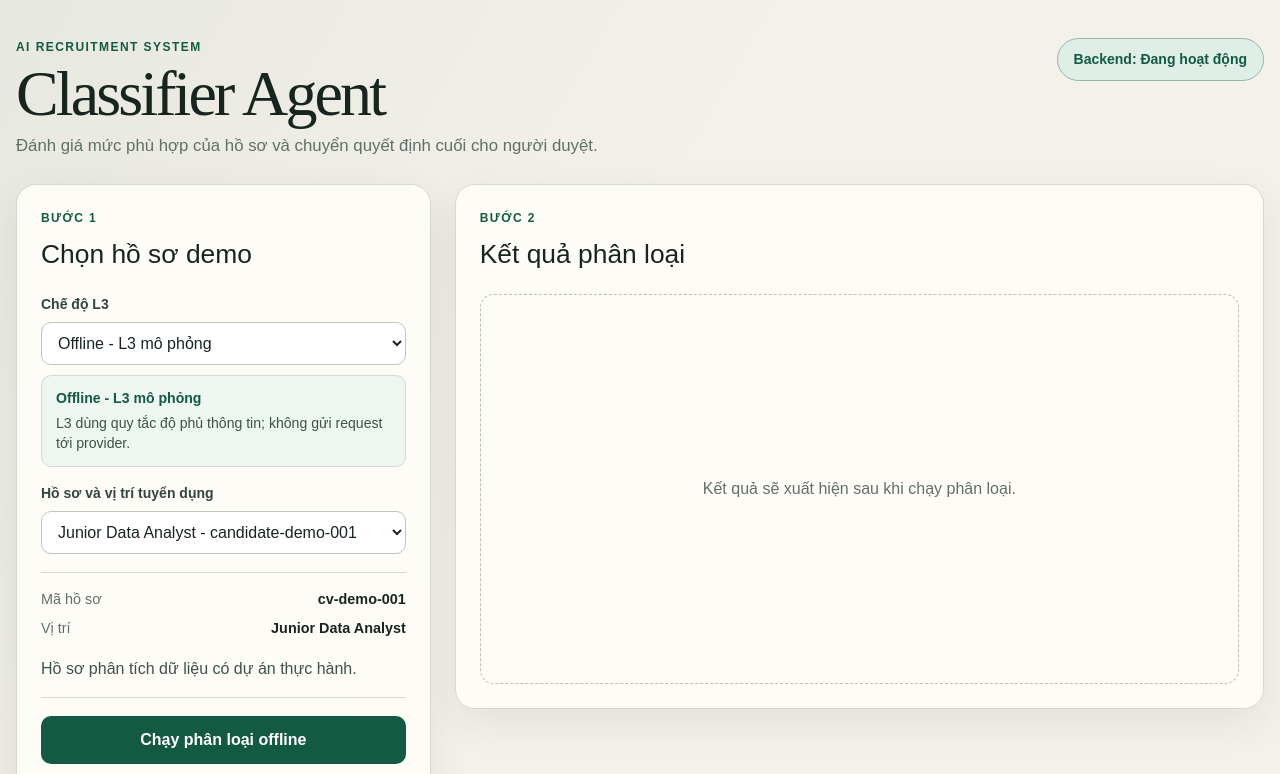
Scenario: ClassifierDashboard › requires cost confirmation and routes a real LLM run explicitly
Expected: the text "Backend: Đang hoạt động" is shown, [1056,38,1264,81]
Select "LLM thật - có thể phát sinh phí" in the dropdown labelled "Chế độ L3". click: point(223, 344)
box: [41,322,406,365]
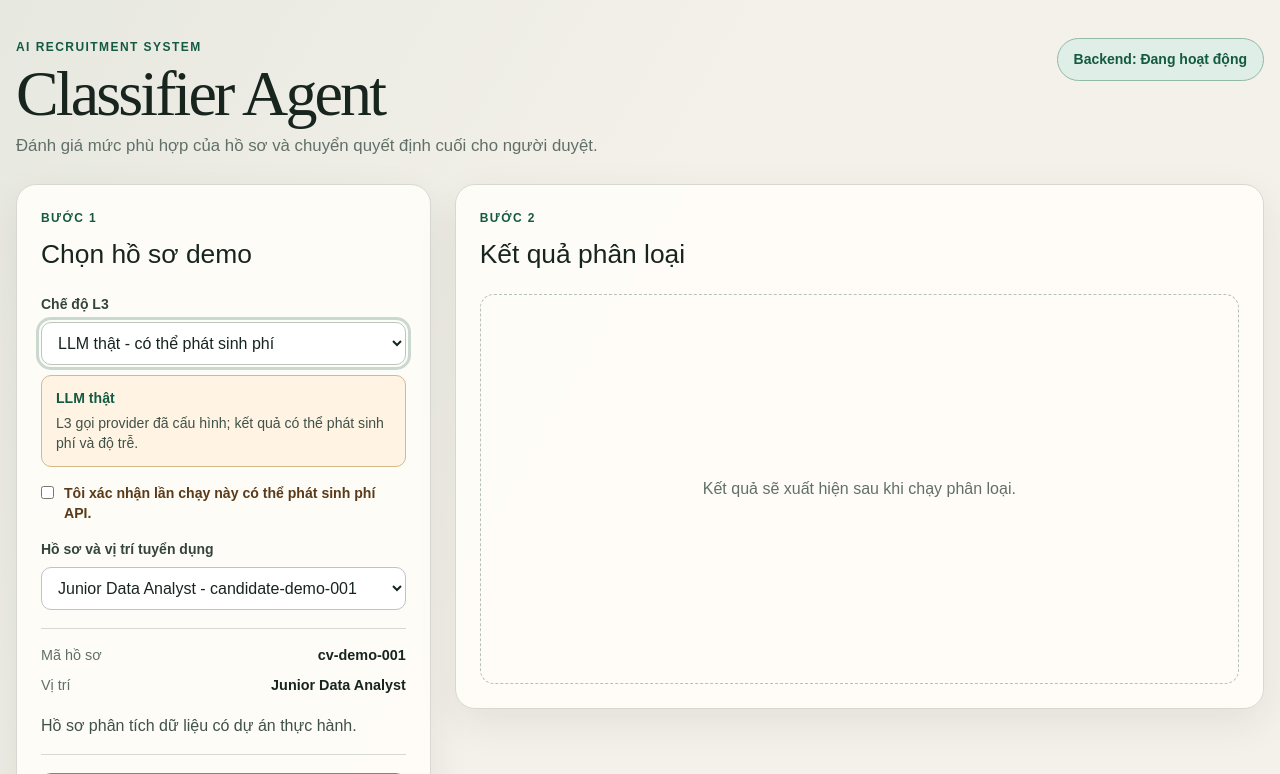
Result: the text "Tôi xác nhận lần chạy này có thể phát sinh phí API." is shown at [64,482,406,523]
Click the checkbox labelled "Tôi xác nhận lần chạy này có thể phát sinh phí API.". click: point(48, 492)
box: [41,486,54,498]
(page scrolled)
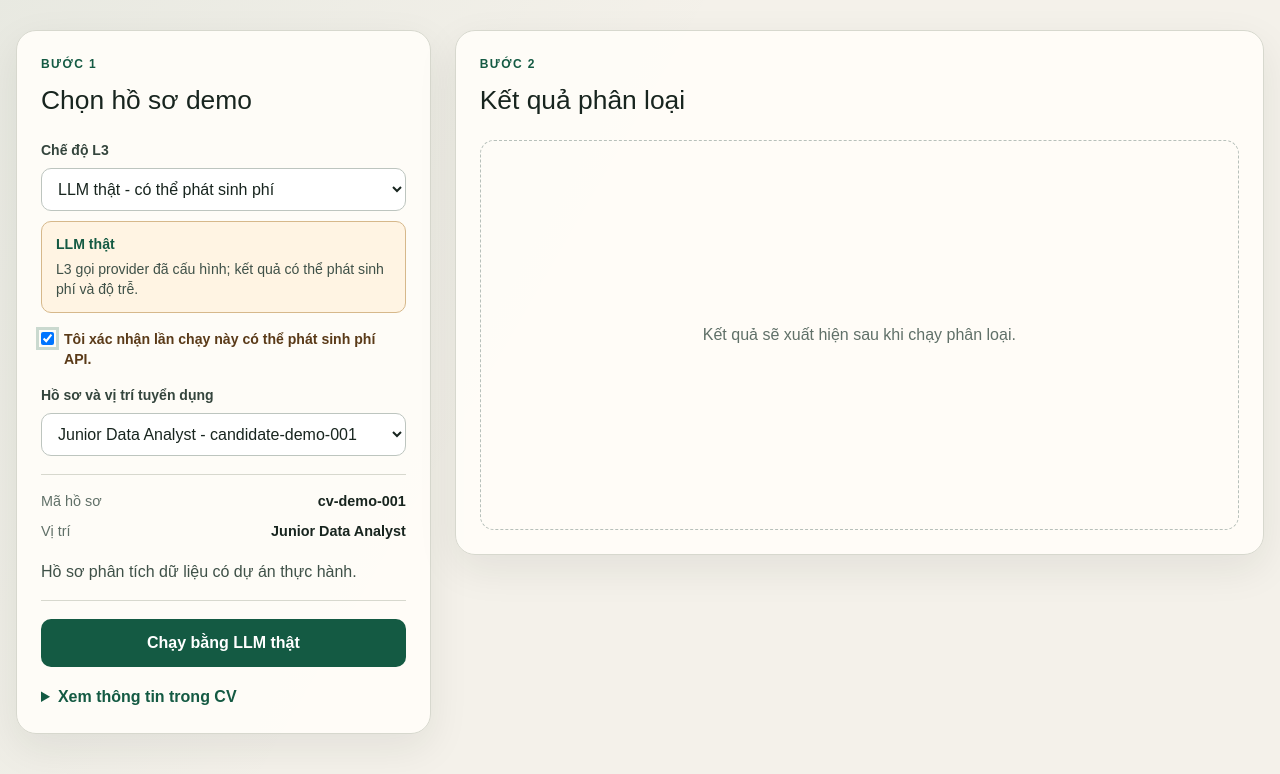
Result: the button "Chạy bằng LLM thật" is enabled
Click the button "Chạy bằng LLM thật". click: point(223, 643)
box: [41,619,406,667]
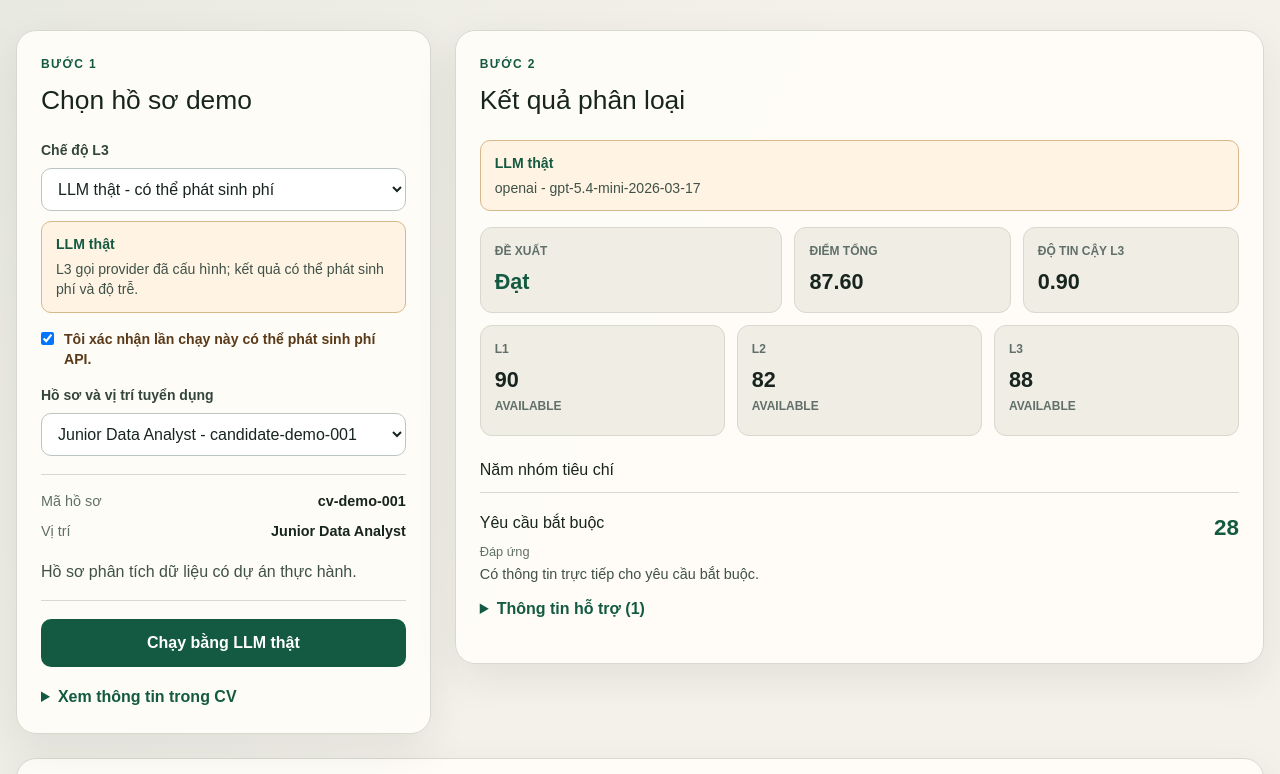
Result: the text "gpt-5.4-mini-2026-03-17" is shown at [495,180,700,196]
